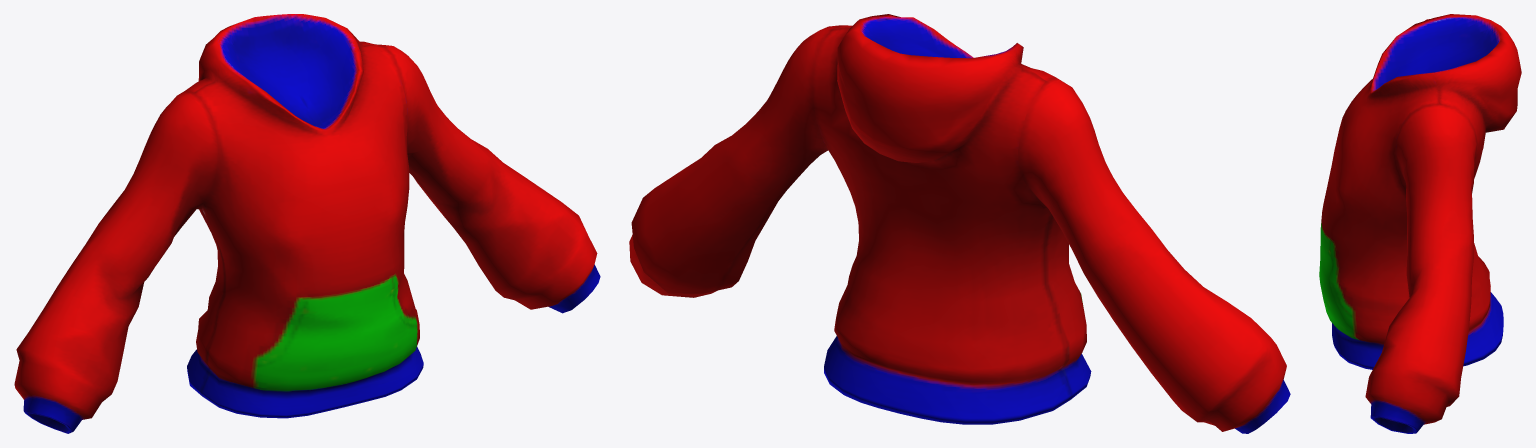
File: Top_Hoodie.obj
3 renders of one model, left to right at view 1: azimuth 30°, elevation 25°; view 2: azimuth 150°, elevation 25°; view 3: azimuth 270°, elevation 25°, orthographic. The views are drawn at different scales.
Visible parts, largest first — view 1: Top_Hoodie_0; view 2: Top_Hoodie_0; view 3: Top_Hoodie_0.
Part boxes in pixels (bbox=[...]): Top_Hoodie_0: bbox=[14, 14, 600, 433]; Top_Hoodie_0: bbox=[629, 14, 1290, 433]; Top_Hoodie_0: bbox=[1319, 14, 1521, 433].
Bounding box in the file's own units: 0.9096 × 0.4916 × 0.3076.
Materials: 1 (1 with a texture image).
